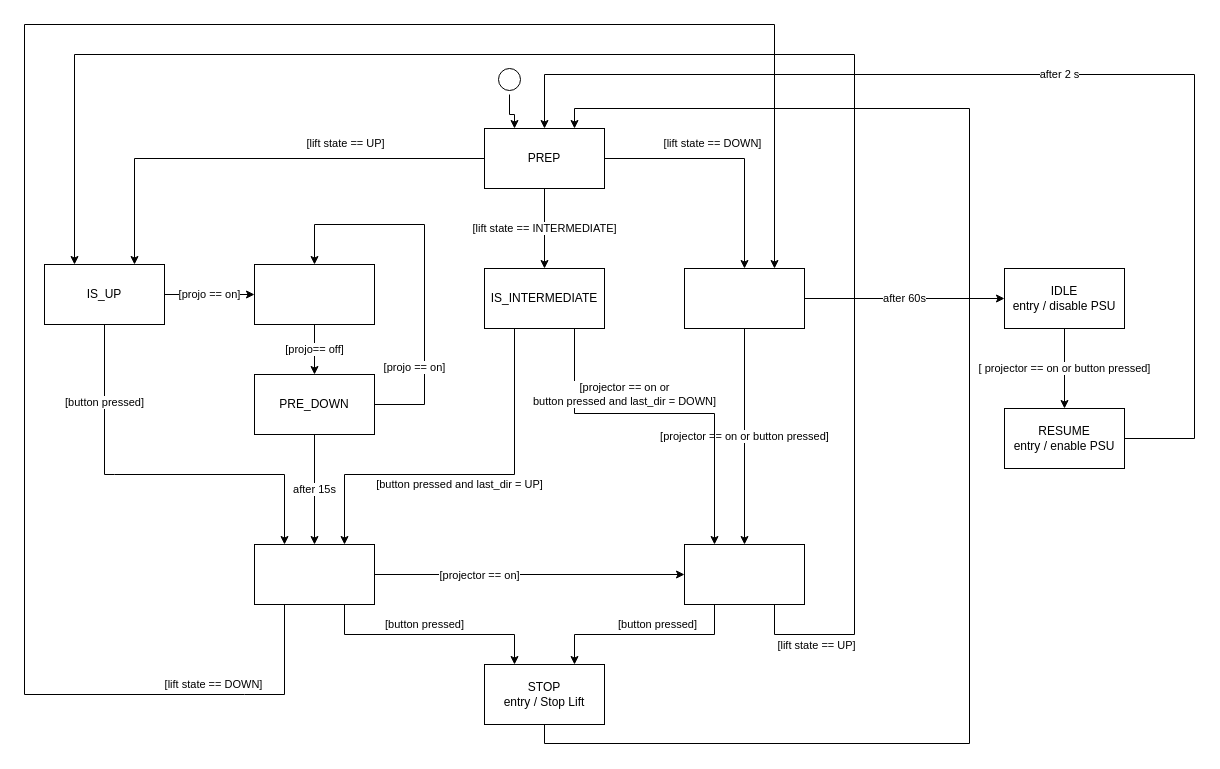
Image size: 1220x769. Some labels were removed from this diagram. Each missing label, with the box of its shape:
IS_DOWN: (684, 268, 804, 328)
IS_UP_AND_ON: (254, 264, 374, 324)
MOVE_DOWN entry / Lower Lift: (254, 544, 374, 604)
MOVE_UP entry / Raise Lift: (684, 544, 804, 604)
